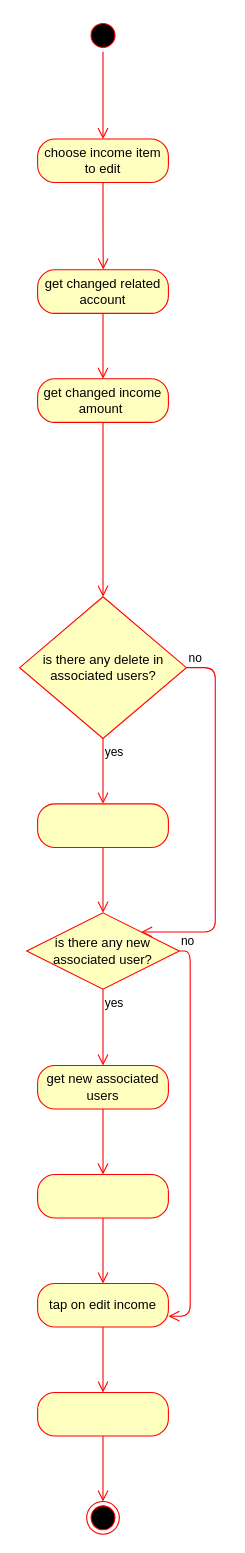
Image size: 245x1553. Some labels were removed from this diagram. Each missing label, with the centre of its shape:
display "income edited successfully: (x=102, y=1413)
get association percent: (x=102, y=1195)
get deleted users: (x=102, y=825)
